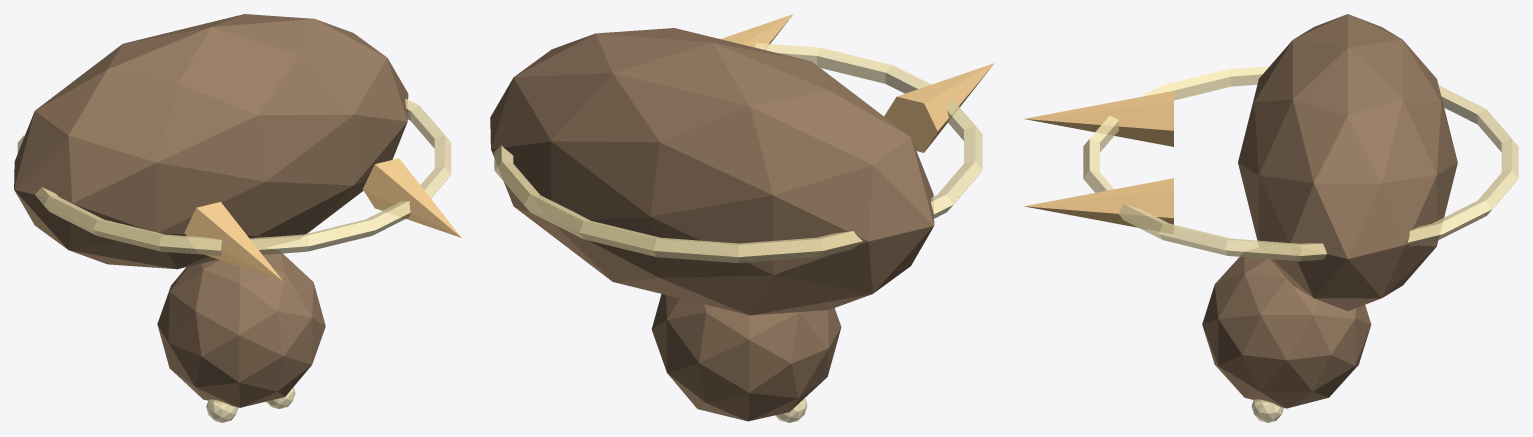
File: 02_monster_random_skin_module.glb
3 views of the same model, side by side, from view 1: azimuth 30°, elevation 25°; view 2: azimuth 150°, elevation 25°; view 3: azimuth 270°, elevation 25° (orthographic). The views are drawn at different scales.
Parts seen in each view (by area): view 1: monster_skin_body_proxy, monster_skin_head_proxy, skin_variant_aura, mutation_spike_b, mutation_spike_a, eye_l; view 2: monster_skin_body_proxy, monster_skin_head_proxy, skin_variant_aura, mutation_spike_a, mutation_spike_b; view 3: monster_skin_body_proxy, monster_skin_head_proxy, skin_variant_aura, mutation_spike_a, mutation_spike_b, eye_r.
Part boxes in pixels (<box>): monster_skin_body_proxy: <box>14,14,408,269</box>; monster_skin_head_proxy: <box>157,248,325,407</box>; skin_variant_aura: <box>17,98,451,256</box>; mutation_spike_b: <box>363,158,461,237</box>; mutation_spike_a: <box>184,202,282,281</box>; eye_l: <box>206,399,238,422</box>; monster_skin_body_proxy: <box>490,28,934,315</box>; monster_skin_head_proxy: <box>651,294,841,421</box>; skin_variant_aura: <box>494,43,982,263</box>; mutation_spike_a: <box>884,63,994,152</box>; mutation_spike_b: <box>720,14,793,49</box>; monster_skin_body_proxy: <box>1238,14,1457,310</box>; monster_skin_head_proxy: <box>1202,248,1371,408</box>; skin_variant_aura: <box>1083,66,1518,261</box>; mutation_spike_a: <box>1024,91,1173,146</box>; mutation_spike_b: <box>1024,178,1173,233</box>; eye_r: <box>1251,399,1283,422</box>.
Size of the model in its own units: 0.972 by 0.845 by 1.05.
